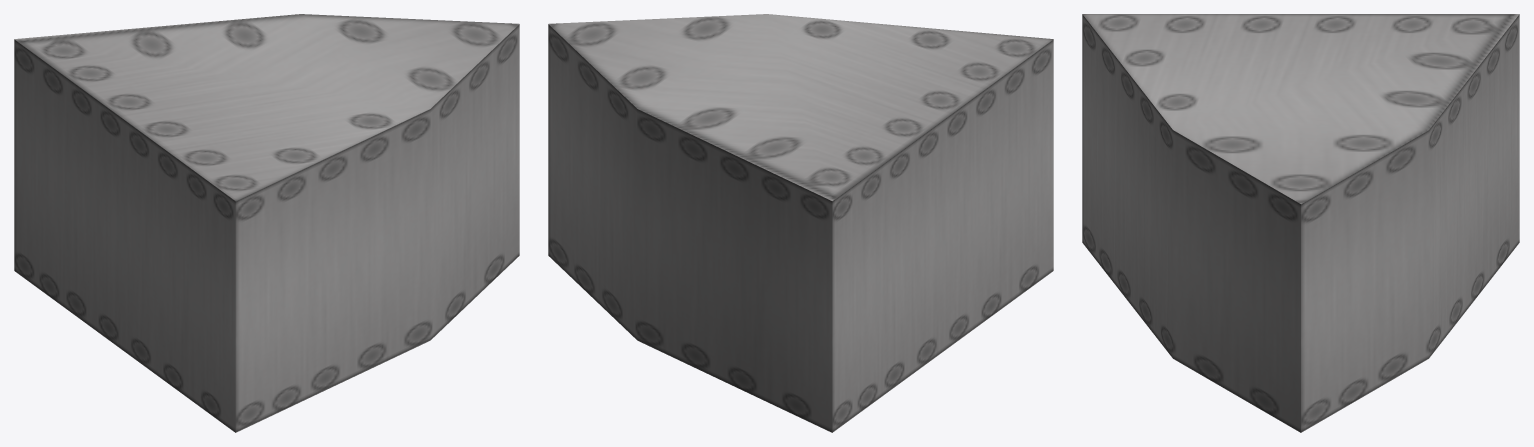
Rendered from aluTriangle.obj.
3 views of the same model, side by side, from view 1: azimuth 30°, elevation 25°; view 2: azimuth 150°, elevation 25°; view 3: azimuth 270°, elevation 25° (orthographic).
Parts seen in each view (by area): view 1: aluTriangle; view 2: aluTriangle; view 3: aluTriangle.
Boxes of the visible parts, x1,y1,x2,y2 form: aluTriangle: [14, 14, 519, 432]; aluTriangle: [548, 14, 1053, 432]; aluTriangle: [1082, 14, 1519, 432].
Size of the model in its own units: 1.78 by 1 by 1.73.
1 material, 1 textured.
